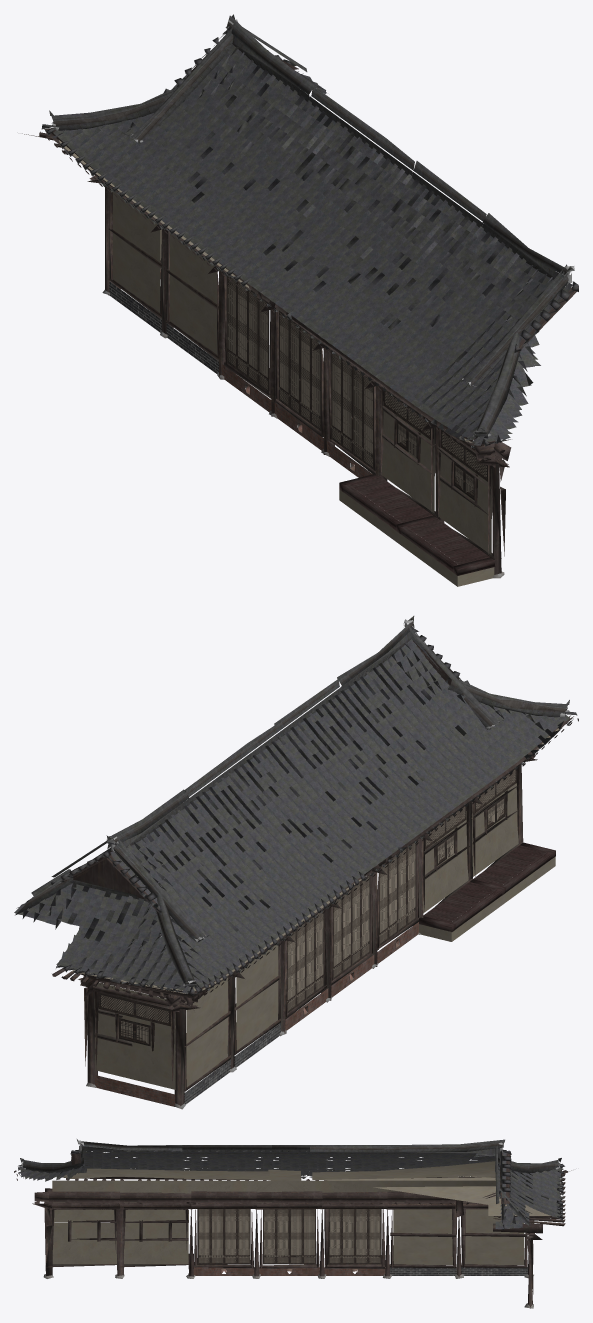
Rendered from TruongHocLow6.fbx.
The picture shows the model from 3 angles, top to bottom: view 1: azimuth 30°, elevation 25°; view 2: azimuth 150°, elevation 25°; view 3: azimuth 270°, elevation 25°; orthographic projection. The views are drawn at different scales.
Parts seen in each view (by area): view 1: Folk_Education_Hall; view 2: Folk_Education_Hall; view 3: Folk_Education_Hall.
Part boxes in pixels (left/top/right/bottom): Folk_Education_Hall: left=22, top=14, right=578, bottom=586; Folk_Education_Hall: left=14, top=616, right=578, bottom=1109; Folk_Education_Hall: left=14, top=1139, right=571, bottom=1308.
Bounding box in the file's own units: 875 × 892 × 2711.
